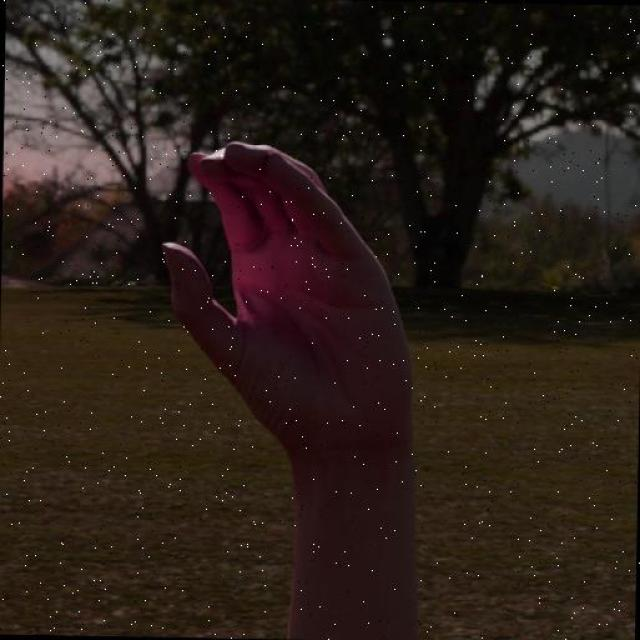C: (104, 115, 439, 529)
